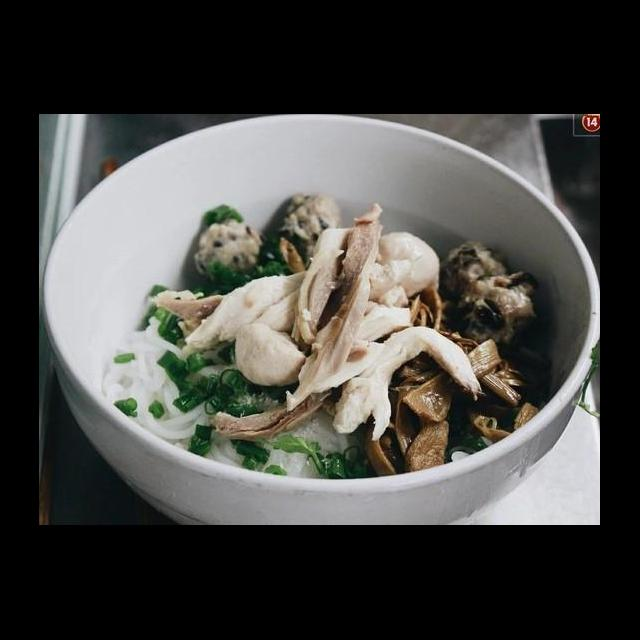bun: (96, 322, 215, 438), (216, 409, 356, 476)
bun moc: (50, 138, 600, 526)
thit ga: (178, 226, 444, 360), (278, 198, 391, 416), (324, 321, 488, 442), (232, 296, 416, 390), (210, 372, 348, 446)
vien moc: (460, 268, 550, 346), (188, 218, 268, 288), (272, 184, 346, 256)
